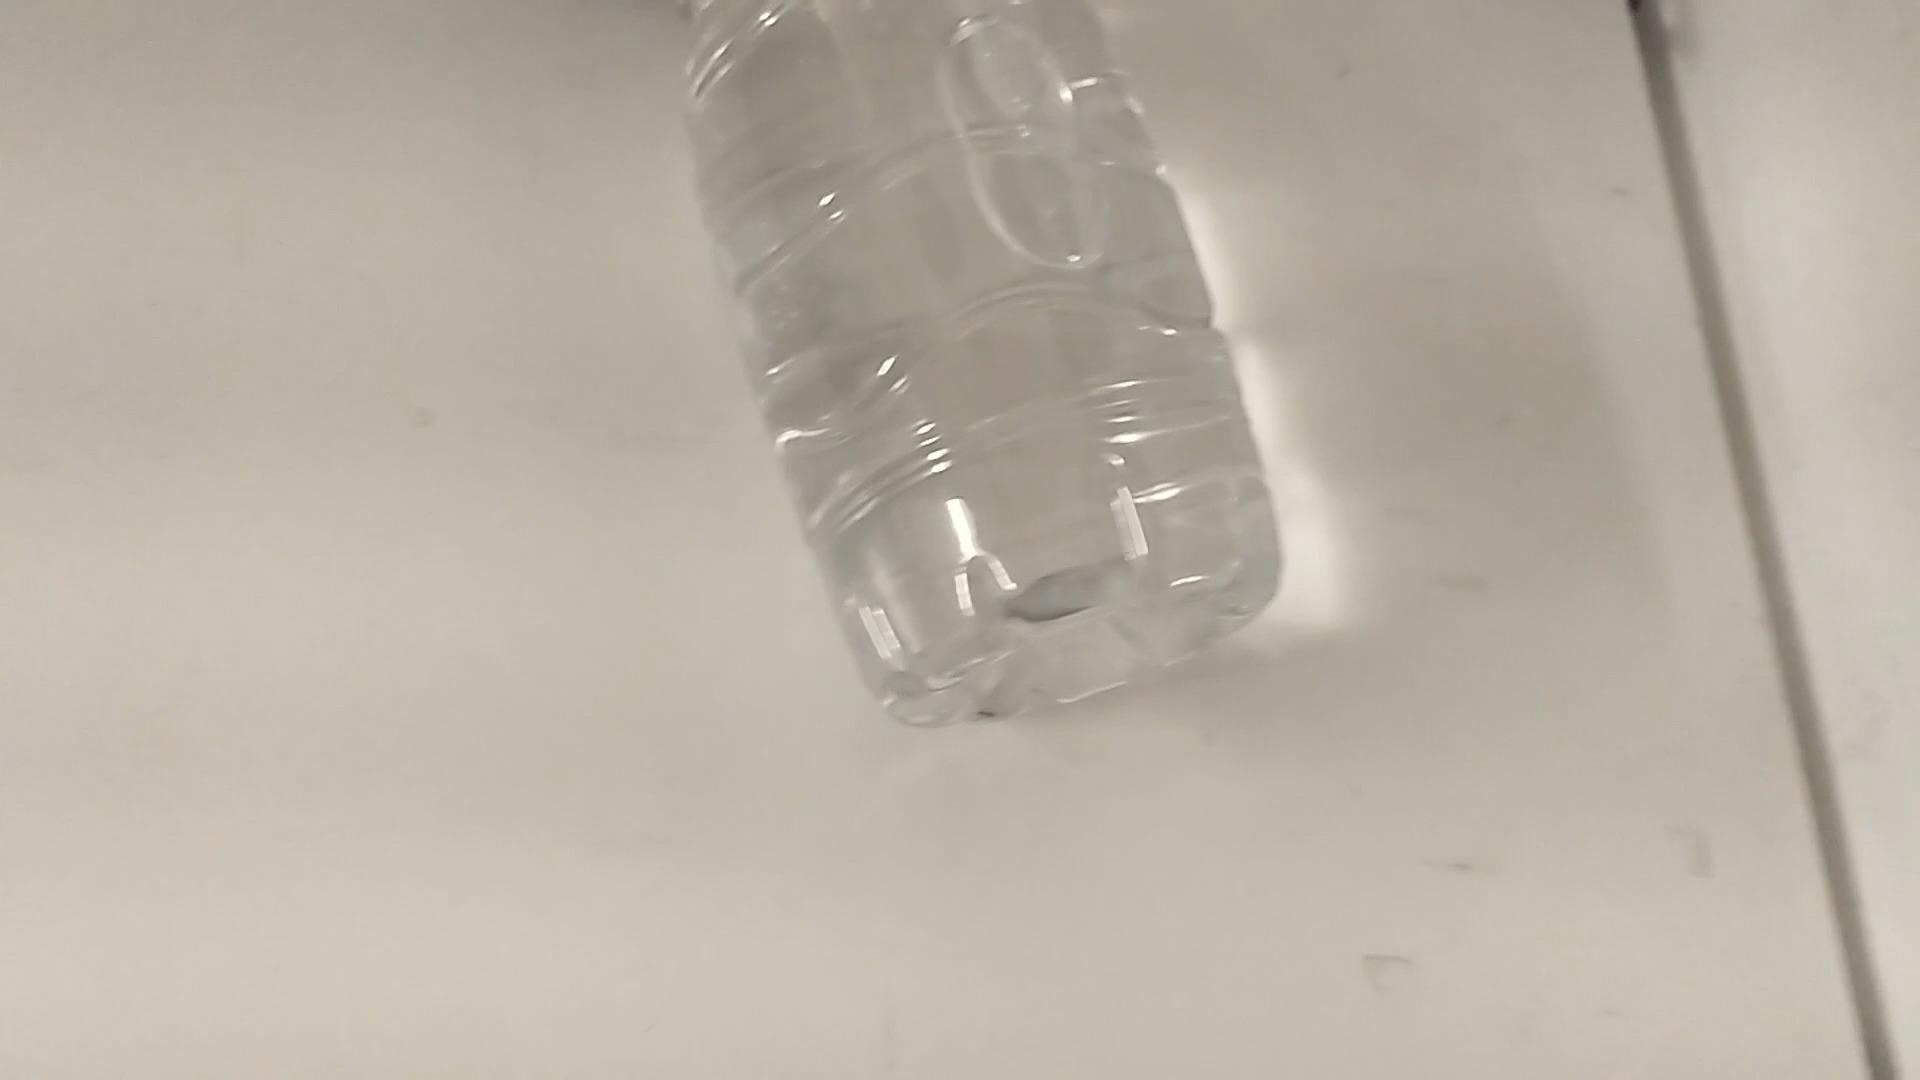agua: (572, 0, 1276, 731)
